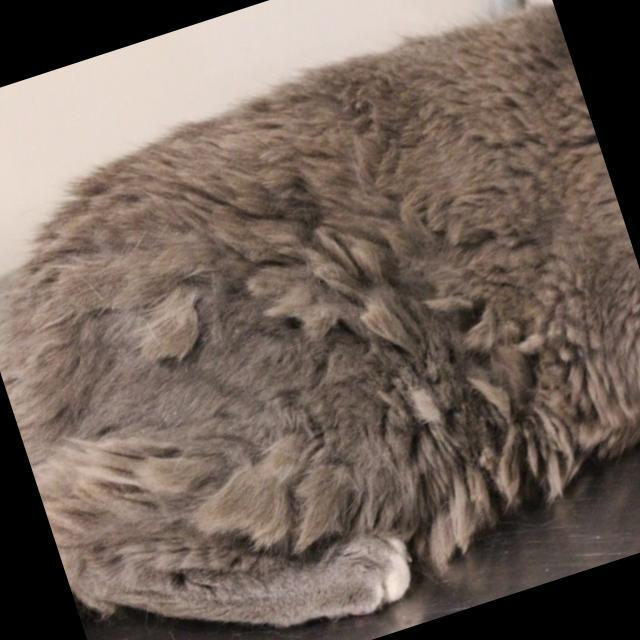Healthy skin: (207, 81, 524, 366), (458, 15, 640, 411), (0, 228, 272, 480), (288, 316, 546, 500), (70, 452, 218, 568), (75, 168, 212, 260), (209, 441, 311, 561)
